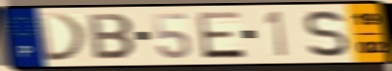1: (263, 10, 289, 59)
5: (150, 11, 194, 60)
B: (86, 12, 139, 61)
D: (35, 12, 90, 64)
E: (194, 10, 248, 61)
S: (303, 9, 351, 59)
